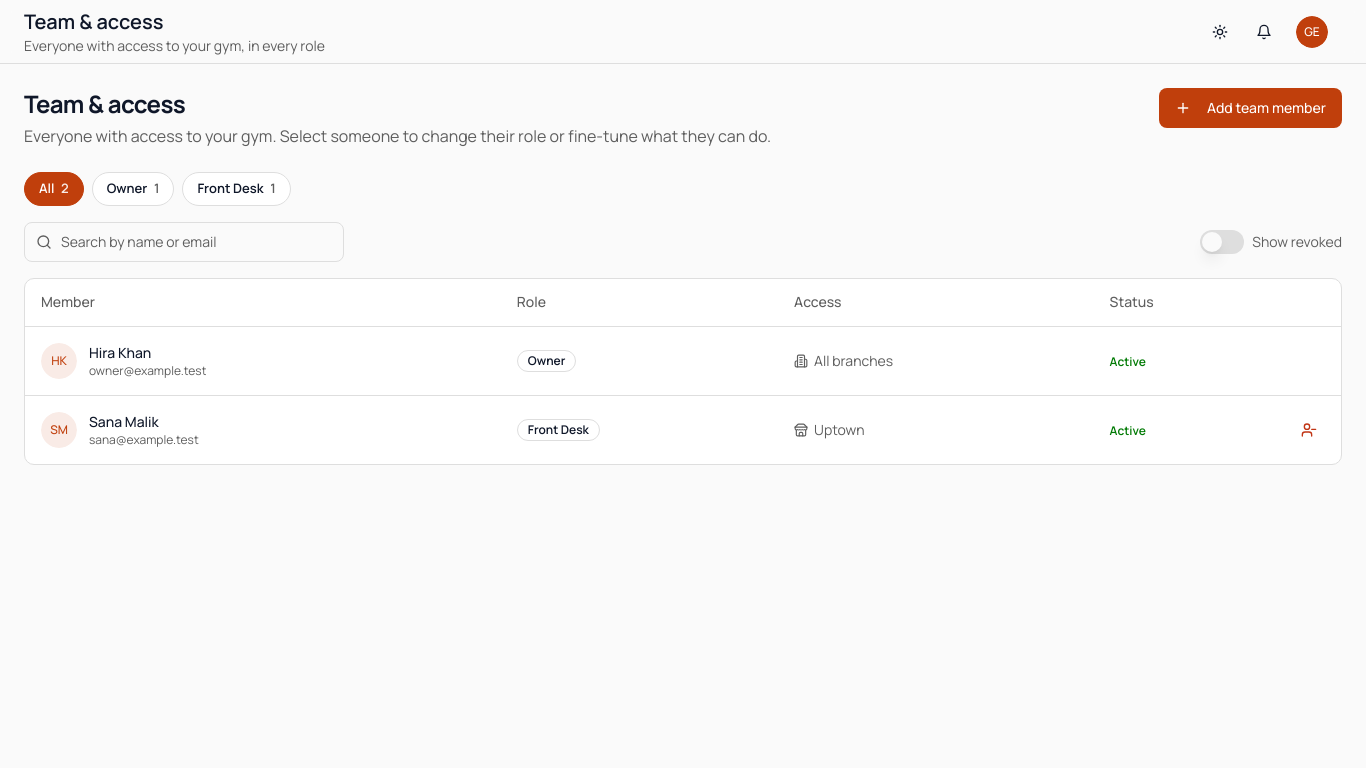
Test case: TeamPage (UX-12) › keeps revoked records: "Show revoked" lists them with Restore access, outside the chip counts
The width and height of the screenshot is (1366, 768).
Expected: the text "Sana Malik" is shown, [89,412,159,431]
Expected: the text "Omar Raza" is not shown
Click the switch named "Show revoked".
click(1222, 242)  # box [1200,230,1244,254]
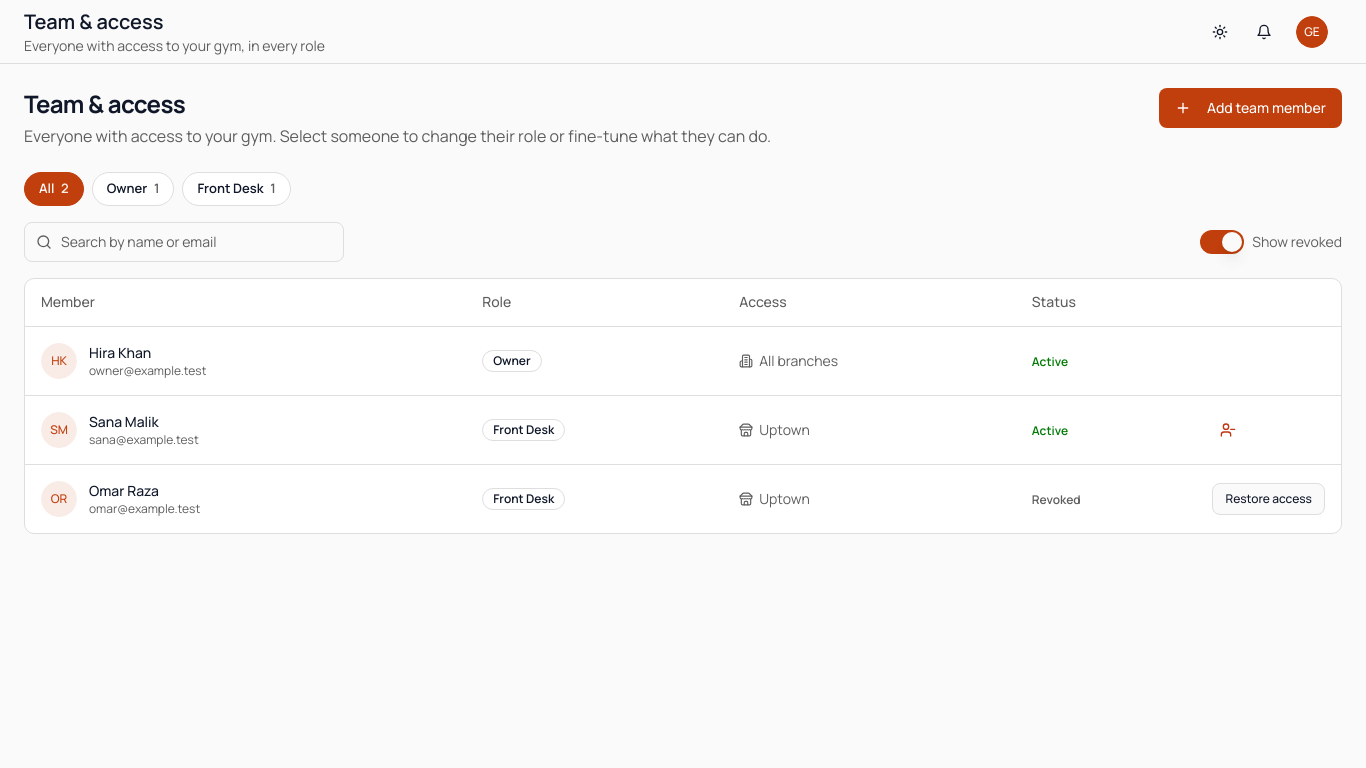
Expected: the button "Front Desk 1" is shown, [182,172,291,206]
Expected: the text "Omar Raza" is shown, [89,481,159,500]
Expected: the text "Revoked" is shown, [1032,491,1081,508]
Click the button "Restore access".
click(1269, 499)  # box [1212,483,1325,515]
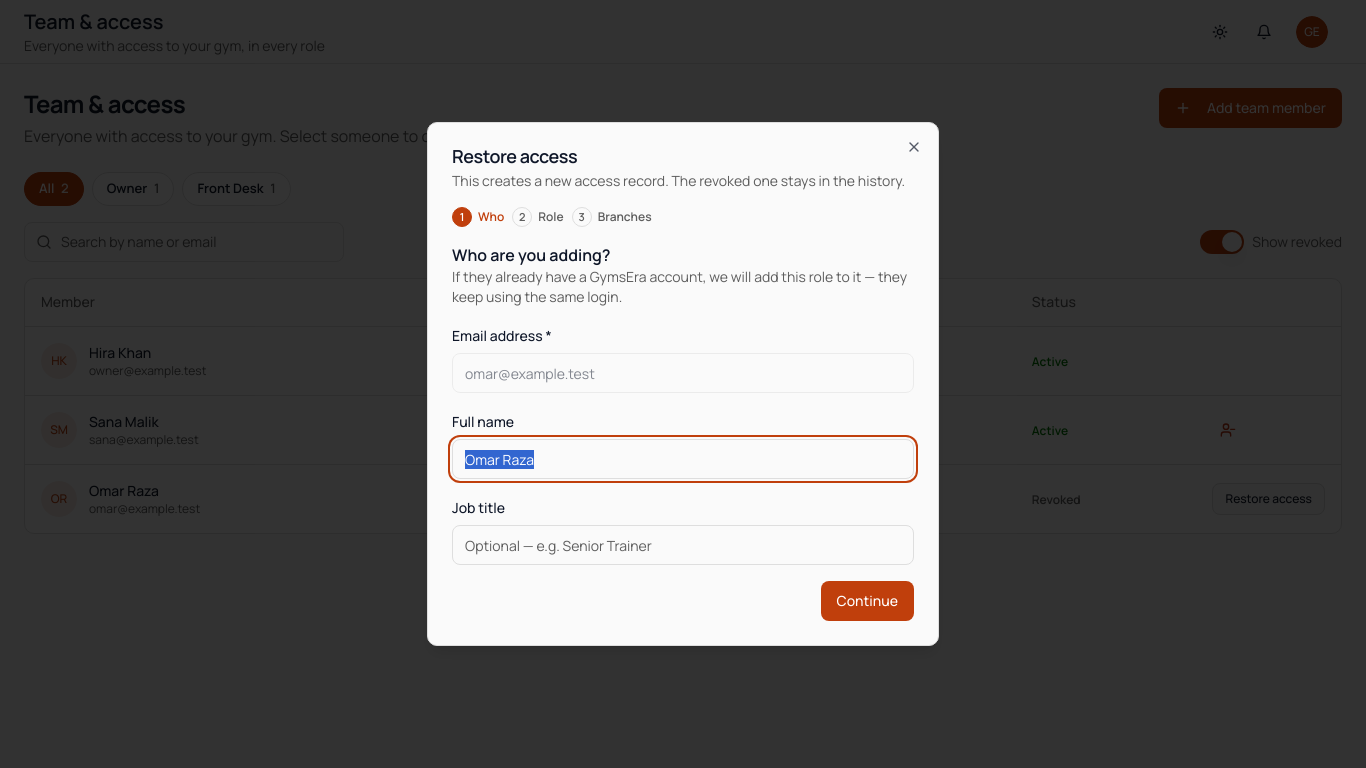
Expected: the heading "Restore access" is shown, [452,144,577,168]
Expected: the field labelled "Email address *" holds "omar@example.test", [452,353,914,393]
